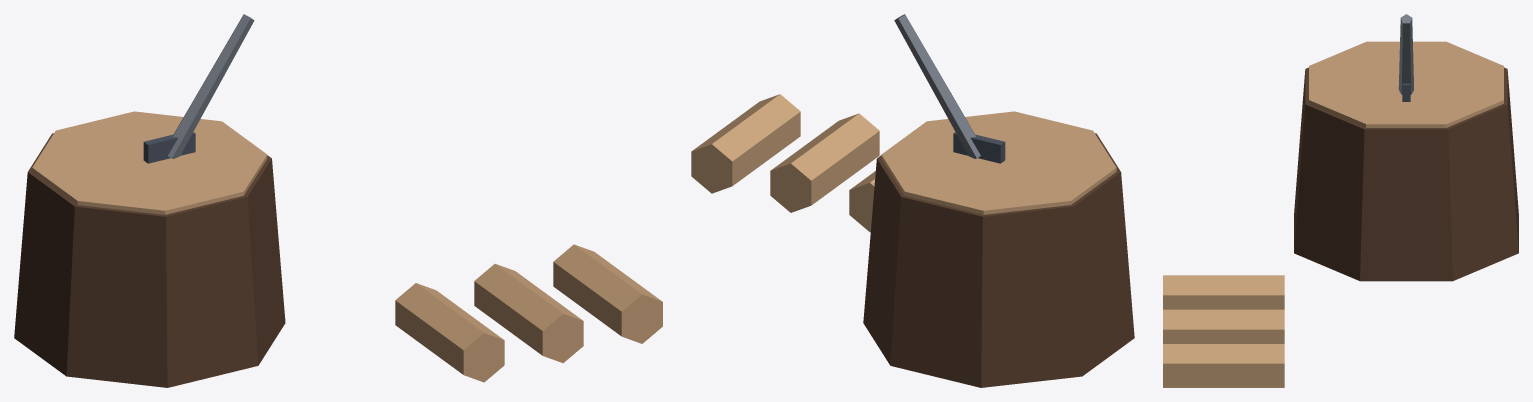
Rendered from chopping_stump.glb.
3 views of the same model, side by side, from view 1: azimuth 30°, elevation 25°; view 2: azimuth 150°, elevation 25°; view 3: azimuth 270°, elevation 25° (orthographic). The views are drawn at different scales.
Parts seen in each view (by area): view 1: chopping_stump; view 2: chopping_stump; view 3: chopping_stump.
Boxes of the visible parts, x1=… form: chopping_stump: x1=14, y1=14, x2=662, y2=387; chopping_stump: x1=691, y1=14, x2=1134, y2=387; chopping_stump: x1=1163, y1=14, x2=1518, y2=387.
Bounding box in the file's own units: 1.23 × 0.7085 × 0.8772.
